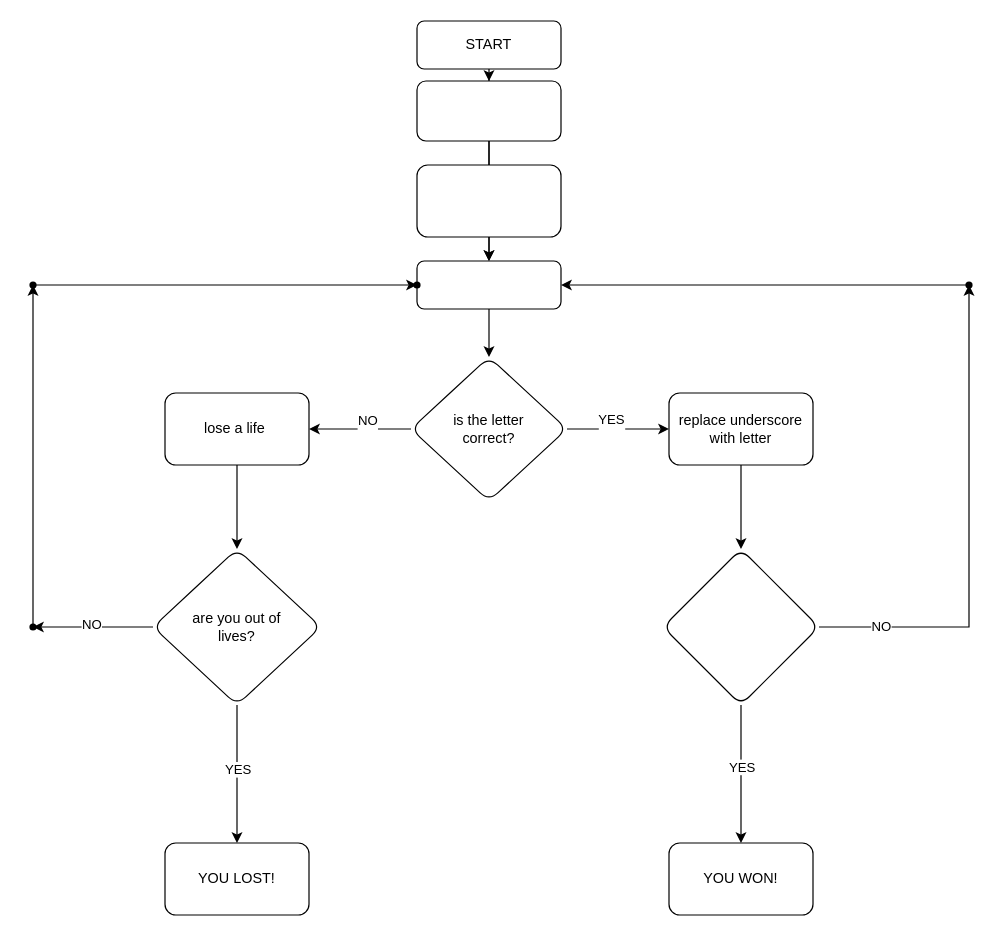
This 1002x936 diagram has some shape labels left out. The box of each missing label's shape, as (x1, y1, x2, y2) in pixels:
are all the blanks filled?: (662, 548, 819, 705)
Create as many blank spaces as there are letters: (416, 164, 561, 237)
Prompt user to guess letter: (416, 260, 561, 309)
RANDOM WORD GENERATED: (416, 80, 561, 141)
